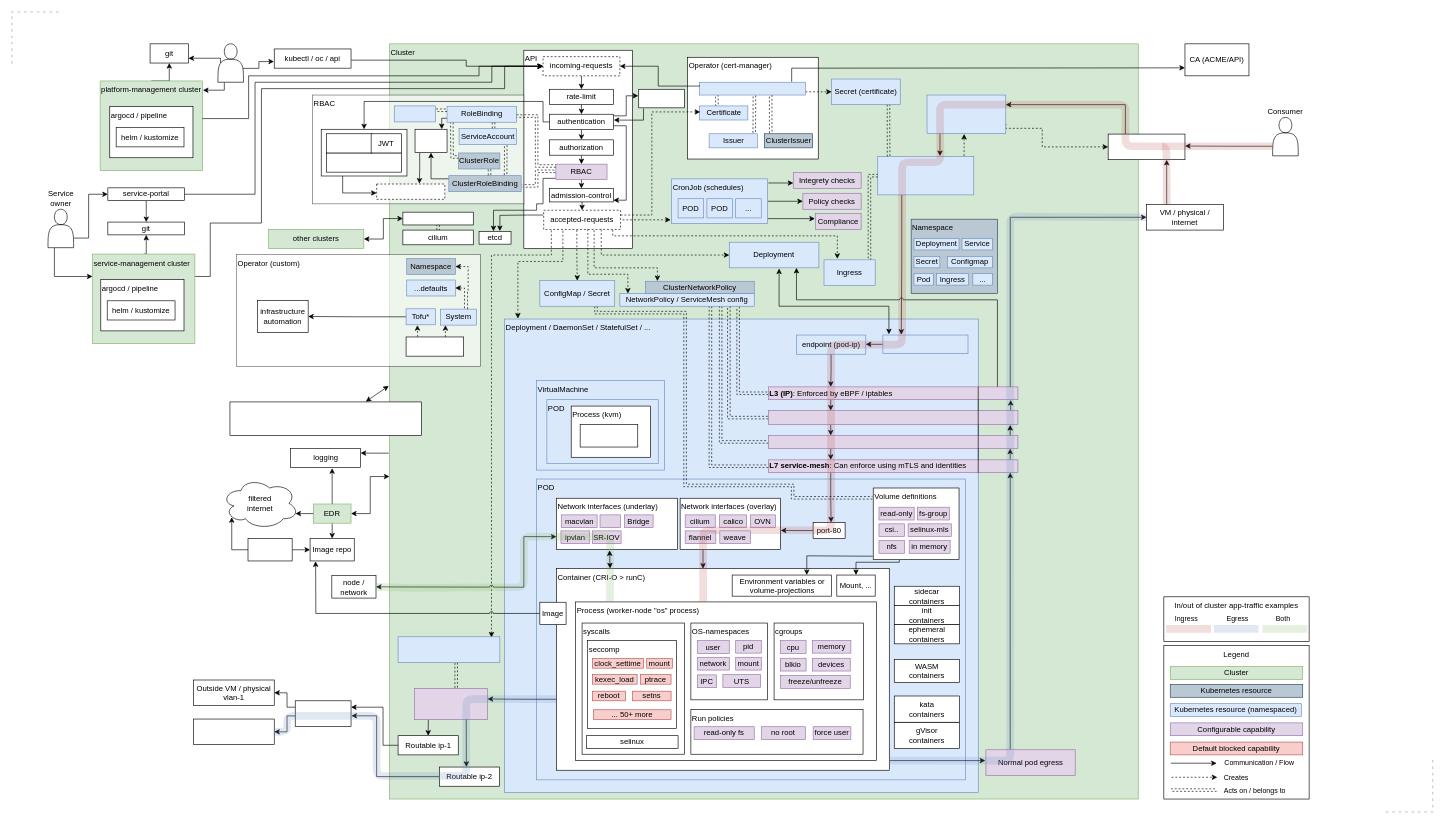
The diagram is 1444 pixels wide and 823 high, and some of its shapes have lost their labels. The centre of each missing label's shape, as x and y in pixels:
"auth webhook" belongs at (661,98).
"auth-results" belongs at (410,191).
"cilium cluster-mesh" belongs at (437,218).
"CiliumEgressGatewayPolicy" belongs at (448,649).
"Client CA" belongs at (349,143).
"Deployment (app=IngressController)" belongs at (925,175).
"Deployment (controller)" belongs at (752,88).
"firewall" belongs at (323,713).
"host" belongs at (609,521).
"Identity provider (IdP)" belongs at (364,162).
"infra-workers / special-purpose workers / self-worker" belongs at (325,418).
"L3 (IP) CIDR based egress" belongs at (450,704).
"L4 (TCP/UDP/..) : Enforced by eBPF / iptables" belongs at (893,417).
"L7 (HTTP/DNS/..) : Enforced by eBPF proxy (typical envoy)" belongs at (893,441).
"Operator" belongs at (230,62).
"Orchestrators*" belongs at (434,346).
"Outside VM / physical vlan-2" belongs at (233,731).
"Role" belongs at (415,113).
"routable-ip (BGP/F5/...)" belongs at (1146,146).
"scanner" belongs at (269,549).
"service (type=ClusterIP)" belongs at (925,344).
"service (type=LoadBalancer)" belongs at (966,113).
"User / Group" belongs at (430,141).
"virtual machine" belongs at (609,435).
